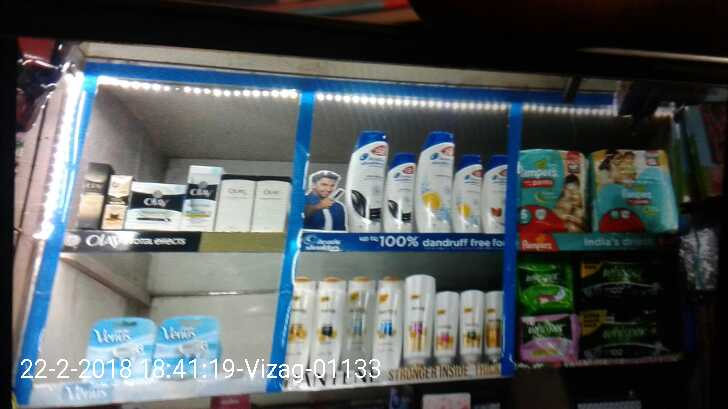venus: (153, 316, 223, 375), (91, 321, 153, 375)
